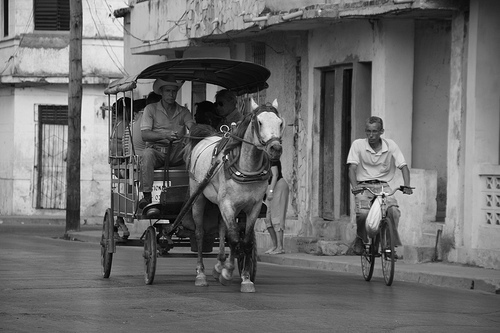horse: (187, 98, 284, 291)
